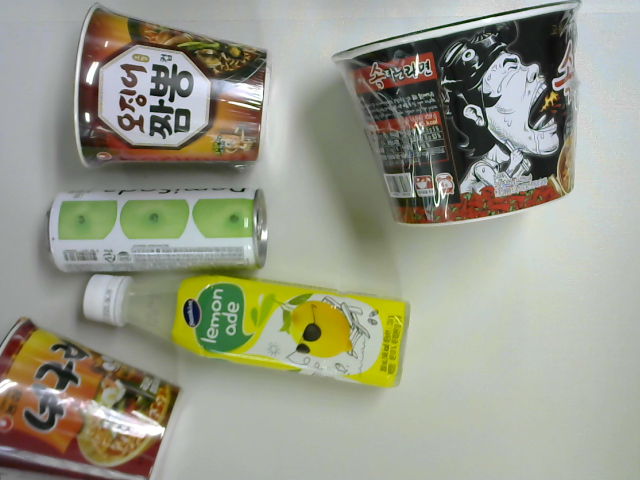Demisoda_Apple_Can_250ml: (45, 188, 269, 276)
HeJangsock: (333, 1, 581, 230)
Ojjam: (75, 2, 269, 168)
Raccoon: (1, 318, 182, 479)
Sunkist_Lemonaid_Pet: (83, 273, 409, 390)
